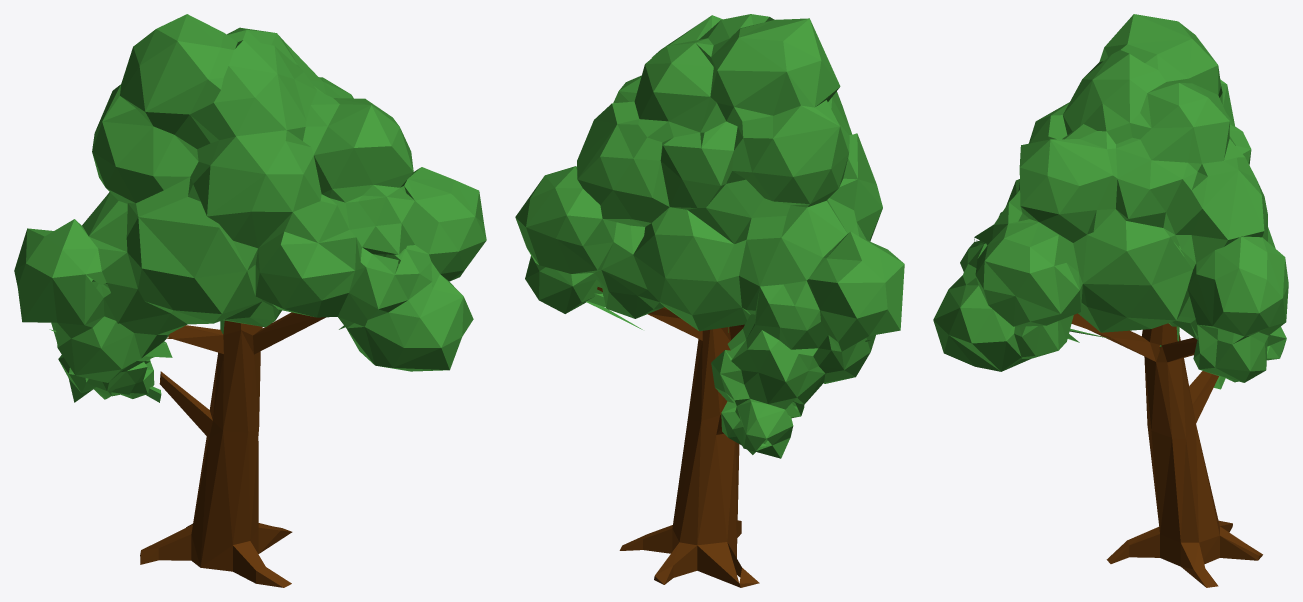
The model's file is arbre4.fbx.
The picture shows the model from 3 angles, left to right: view 1: azimuth 30°, elevation 25°; view 2: azimuth 150°, elevation 25°; view 3: azimuth 270°, elevation 25°; orthographic projection. The views are drawn at different scales.
Visible parts, largest first — view 1: _6_tree__6_tree_0.1124; view 2: _6_tree__6_tree_0.1124; view 3: _6_tree__6_tree_0.1124.
Part boxes in pixels (<box>): _6_tree__6_tree_0.1124: <box>14,14,486,587</box>; _6_tree__6_tree_0.1124: <box>515,14,904,587</box>; _6_tree__6_tree_0.1124: <box>933,14,1288,587</box>.
Size of the model in its own units: 201 by 290 by 185.
2 materials, 2 textured.
